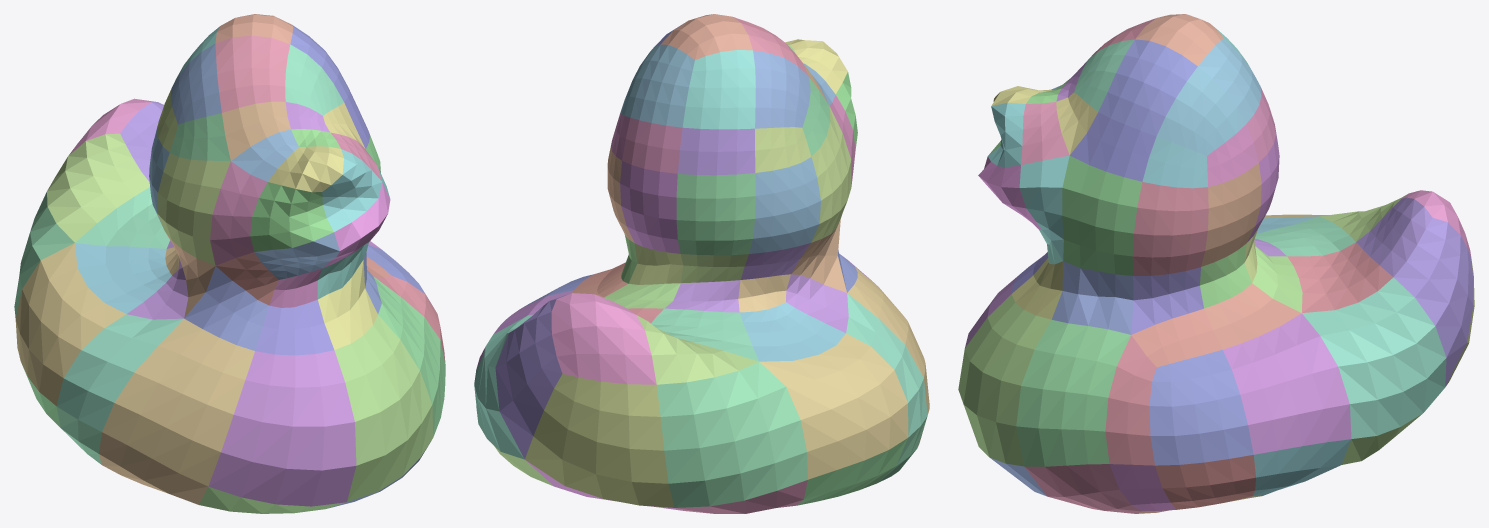
File: duck_quad5_patch_color.obj
The picture shows the model from 3 angles, left to right: view 1: azimuth 30°, elevation 25°; view 2: azimuth 150°, elevation 25°; view 3: azimuth 270°, elevation 25°; orthographic projection. The views are drawn at different scales.
Size of the model in its own units: 69.52 by 77.42 by 82.11.
